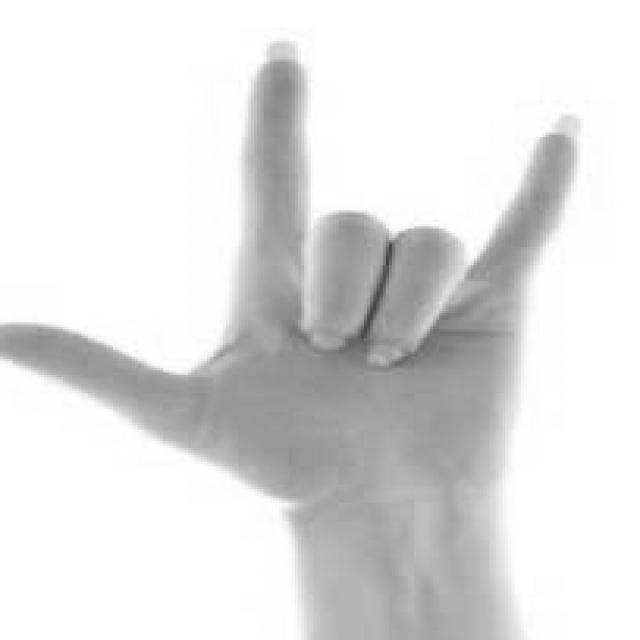i love you: (0, 27, 593, 535)
